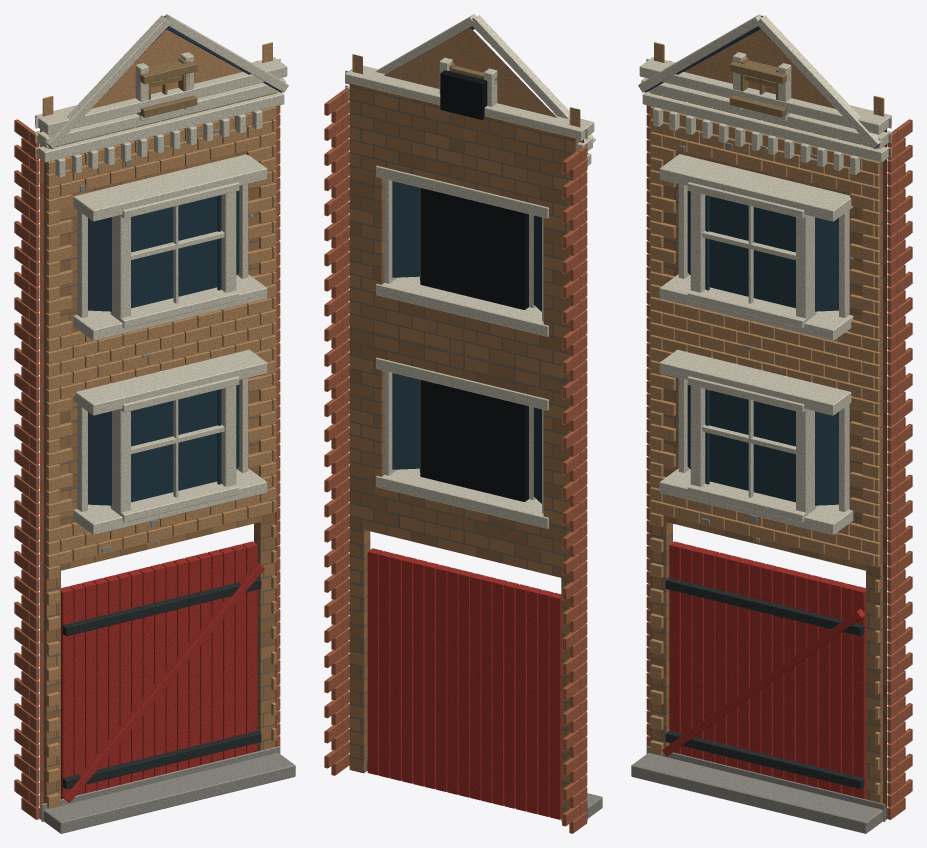
The model's file is VICT2A_lod0.glb.
3 views of the same model, side by side, from view 1: azimuth 30°, elevation 25°; view 2: azimuth 150°, elevation 25°; view 3: azimuth 330°, elevation 25° (orthographic).
Visible parts, largest first — view 1: VICT2A_FRONT_LOD0; view 2: VICT2A_FRONT_LOD0; view 3: VICT2A_FRONT_LOD0.
Boxes of the visible parts, x1,y1,x2,y2 form: VICT2A_FRONT_LOD0: [14, 14, 295, 833]; VICT2A_FRONT_LOD0: [324, 14, 602, 833]; VICT2A_FRONT_LOD0: [631, 14, 912, 833].
Size of the model in its own units: 3.44 by 10.46 by 1.11.
Materials: 17 (15 with a texture image).
